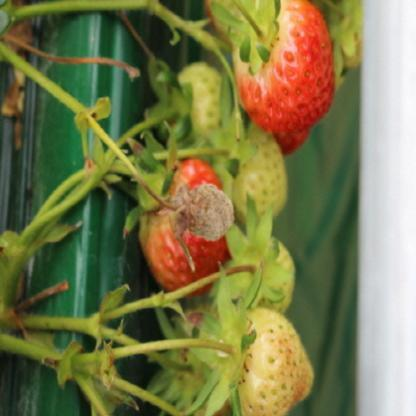Strawberry_Gray_Mold: (156, 182, 236, 274)
